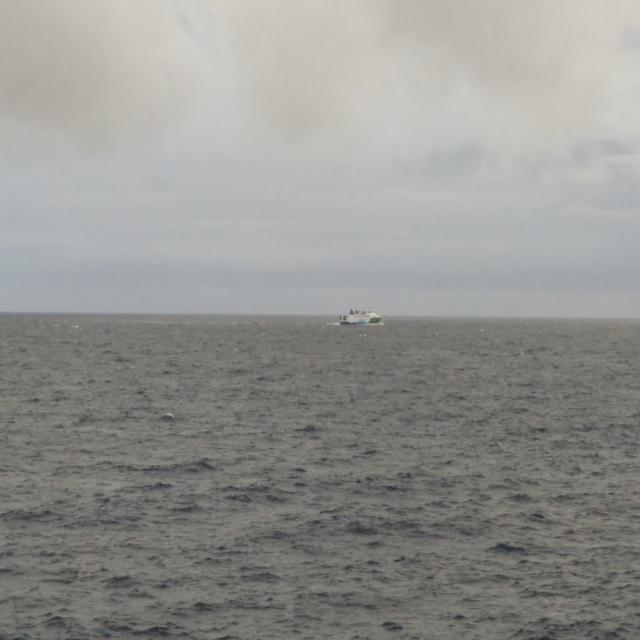houseboat: (338, 302, 384, 328)
